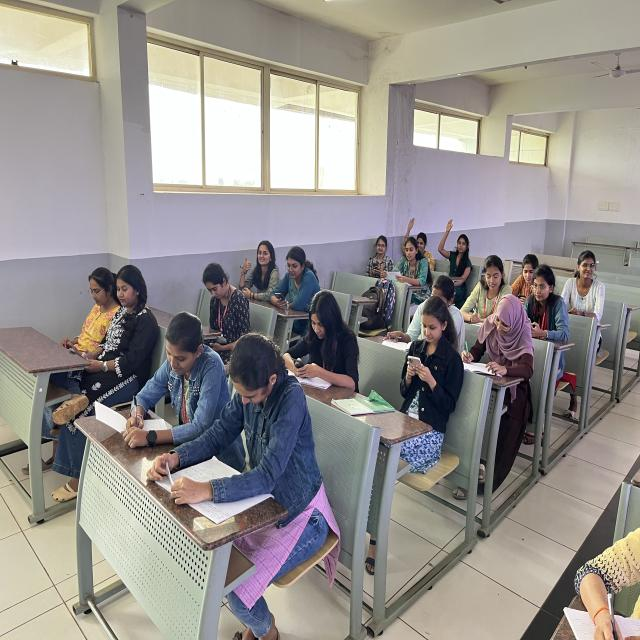Hand Rising: (431, 211, 477, 279)
Reading: (202, 365, 326, 519), (388, 232, 426, 312)
Using Phone: (286, 290, 357, 397), (403, 303, 461, 429)
Writing: (116, 311, 231, 473), (460, 256, 508, 338)
